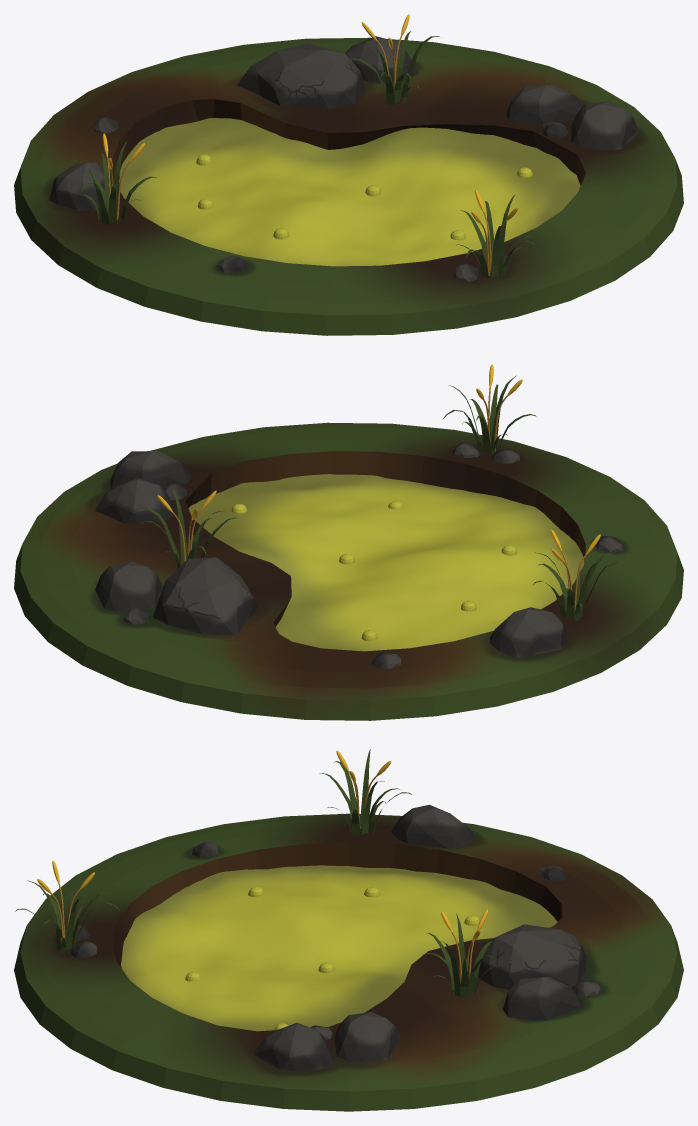
Rendered from swamp.glb.
3 views of the same model, one above another, from view 1: azimuth 30°, elevation 25°; view 2: azimuth 150°, elevation 25°; view 3: azimuth 270°, elevation 25° (orthographic).
Parts seen in each view (by area): view 1: swamp model; view 2: swamp model; view 3: swamp model.
Part boxes in pixels (x1,y1,x2,y2): swamp model: (14,14,683,335); swamp model: (14,364,683,720); swamp model: (14,749,683,1111).
Size of the model in its own units: 1.5 by 0.25 by 1.5.
Materials: 8 (8 with a texture image).
